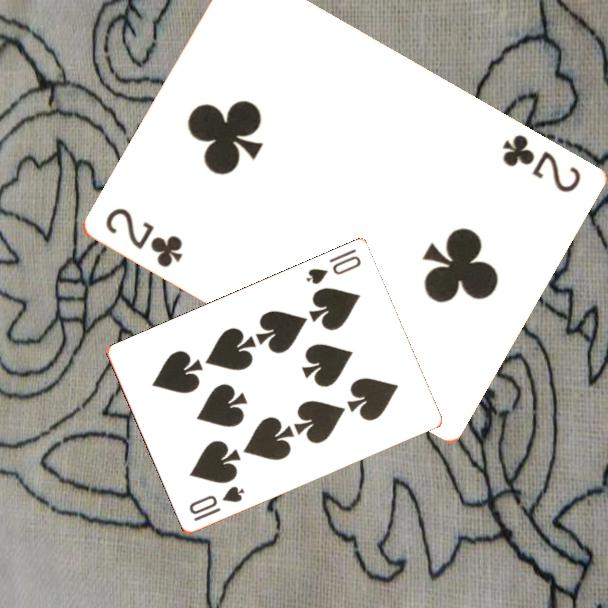c02: (101, 204, 185, 271), (498, 131, 584, 196)
s10: (185, 483, 247, 525), (302, 246, 364, 288)
